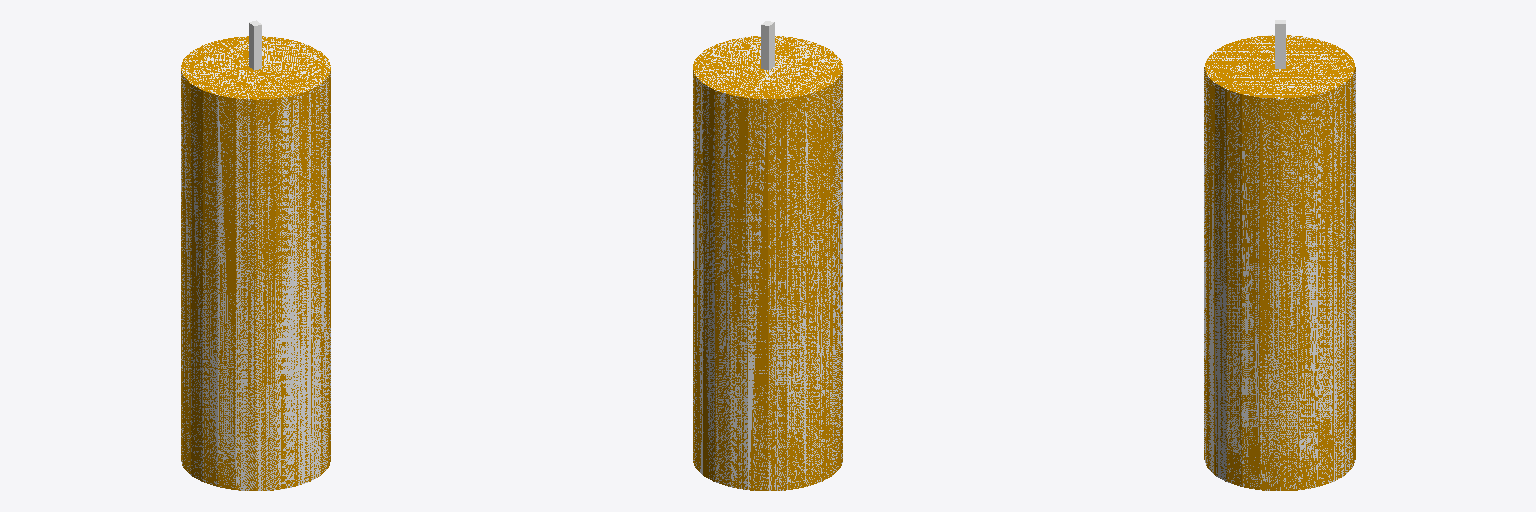
The robot description file, URDF, robot "my_object":
<?xml version="1.0" ?>
<robot name="my_object" static="true">
  <link name="base_link">
  <inertial>
    <mass value="0.589" />
    <origin xyz="0 0 0.0" />
    <inertia ixx="1.0" ixy="0.0" ixz="0.0" iyy="1.0" iyz="0.0" izz="1.0"/>
  </inertial>
  <visual>
   <origin xyz="0 0 0.0" rpy="0 0 0" />
   <geometry>
     <mesh filename="package://cob_gazebo_objects/Media/models/candle_thick.dae"/>
   </geometry>
  </visual>
  <collision>
   <origin xyz="0 0 0.0" rpy="0 0 0" />
   <geometry>
     <mesh filename="package://cob_gazebo_objects/Media/models/candle_thick.dae" />
   </geometry>
  </collision>
  </link>

<gazebo>
	<static>true</static>
</gazebo>
</robot>

--- What the picture shows (computed from the rendered views, not written in the file) ---
Views: 3 orthographic renders of the robot side by side, from view 1: azimuth 30°, elevation 25°; view 2: azimuth 150°, elevation 25°; view 3: azimuth 270°, elevation 25°.
Model my_object with 1 links and 0 joints (none), rooted at base_link, posed all joints at 0.
Visible links, largest first — view 1: base_link; view 2: base_link; view 3: base_link.
Link boxes in pixels (<box>): base_link: <box>181,20,330,490</box>; base_link: <box>693,21,842,490</box>; base_link: <box>1204,20,1355,490</box>.
Size in the robot's own frame: 0.068 by 0.068 by 0.217 metres.
Meshes: 1 distinct files referenced, 1 mesh visuals loaded (1 Collada DAE).